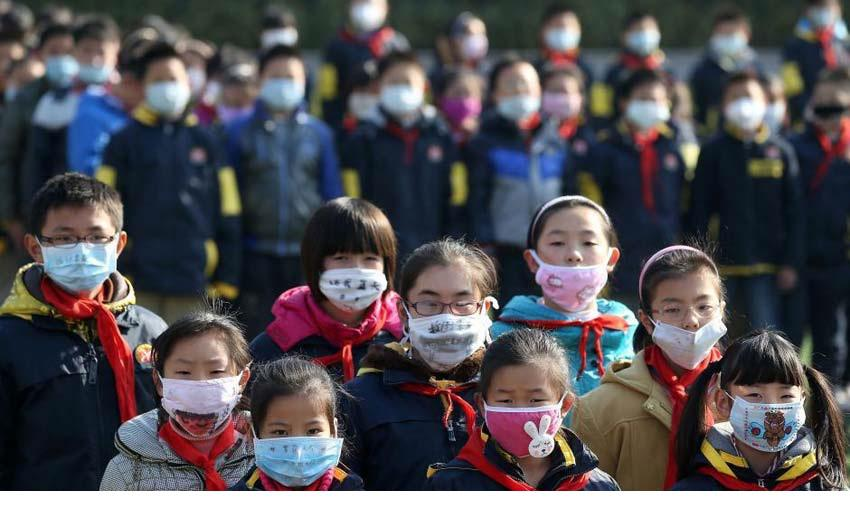OK: (412, 284, 489, 361), (486, 382, 563, 459), (163, 352, 239, 428), (732, 377, 808, 453), (258, 415, 330, 487), (51, 220, 119, 288), (317, 243, 382, 308), (261, 61, 308, 108), (146, 70, 185, 116), (384, 68, 423, 113), (46, 36, 81, 84), (632, 87, 671, 130), (442, 77, 479, 120), (452, 20, 491, 59), (547, 79, 582, 120), (261, 14, 299, 50), (347, 1, 384, 36), (714, 22, 747, 60), (726, 87, 761, 122), (812, 88, 847, 123), (547, 16, 582, 51), (351, 80, 381, 119), (759, 87, 788, 125), (628, 22, 661, 55), (182, 57, 209, 91), (811, 2, 838, 29)
WRONG: (539, 228, 610, 299), (650, 287, 721, 358), (497, 72, 541, 117), (84, 31, 120, 81)
